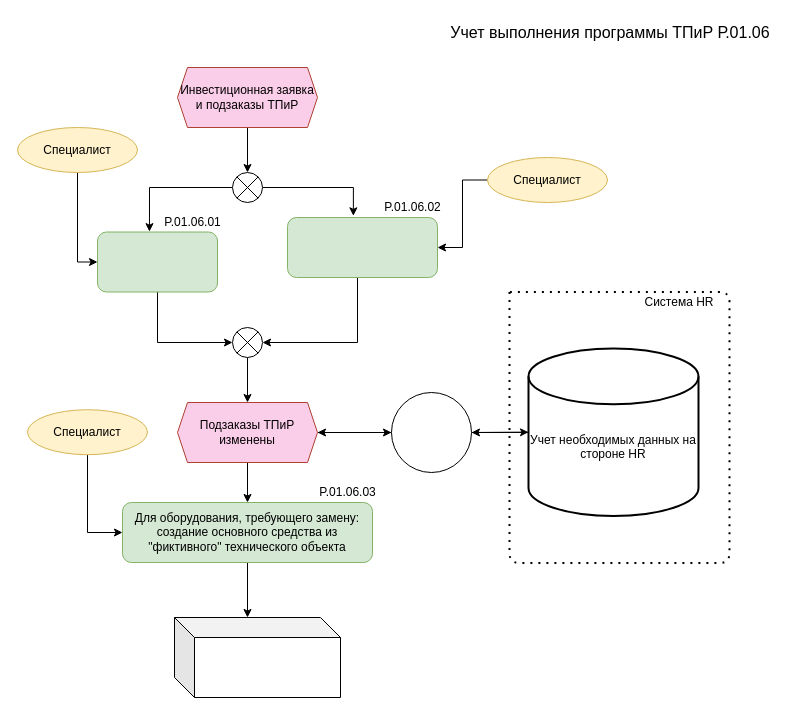
This 799x715 diagram has some shape labels left out. Here are the shapes that lost their labels. From the top down, the centre of each, then its label:
At point 157,261: "Проведение и учет фактических затрат на подзаказах".
At point 362,247: "Распределение фактических затрат; прямые бухгалтерские проводки".
At point 431,432: "Интерфейс".
At point 257,657: "Ведение основных средств".
